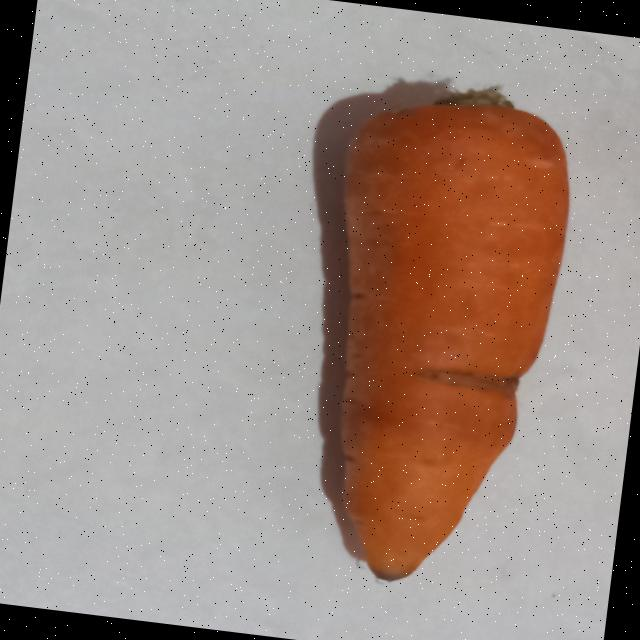carrot: (341, 102, 568, 579)
